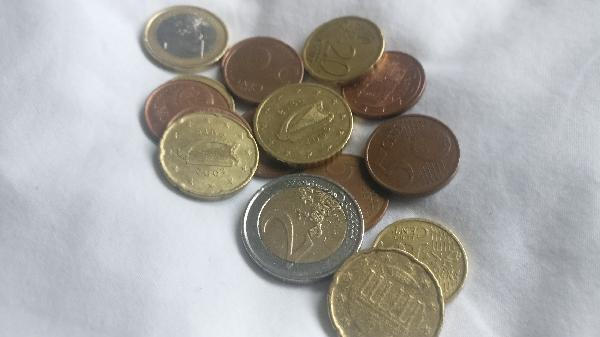Fifty Cent: (253, 84, 357, 167)
Five Cent: (367, 119, 467, 199), (306, 156, 390, 233), (345, 52, 426, 119), (224, 38, 306, 98), (144, 82, 229, 139)
One Euro: (143, 4, 232, 71)
Ten Cent: (373, 222, 470, 308)
Twenty Cent: (327, 247, 446, 337), (161, 113, 262, 198), (303, 15, 387, 85)
Two Euro: (240, 174, 367, 278)
